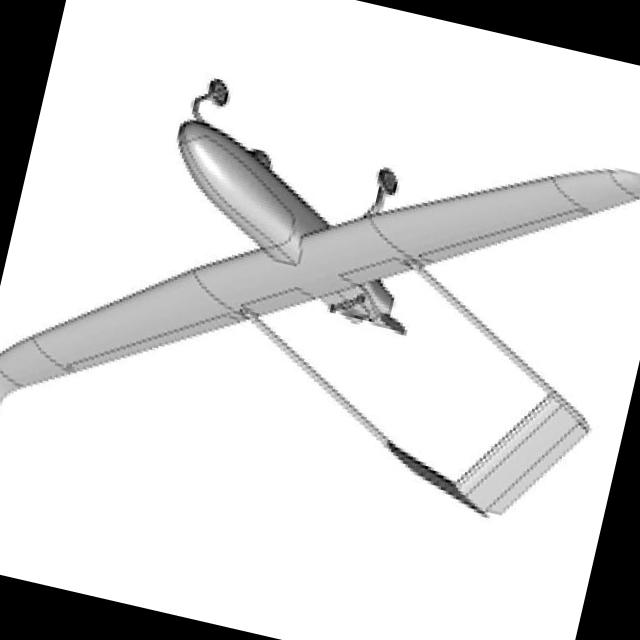UAV: (0, 34, 640, 607)
